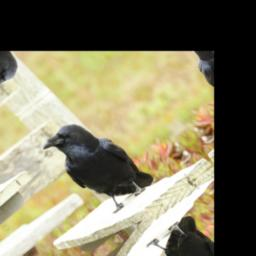Crow: (37, 108, 158, 219)
